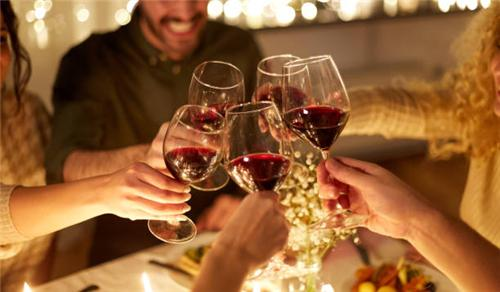alcohol: (281, 54, 370, 233), (147, 104, 225, 245), (223, 100, 285, 194), (254, 56, 311, 138), (184, 60, 247, 123)
